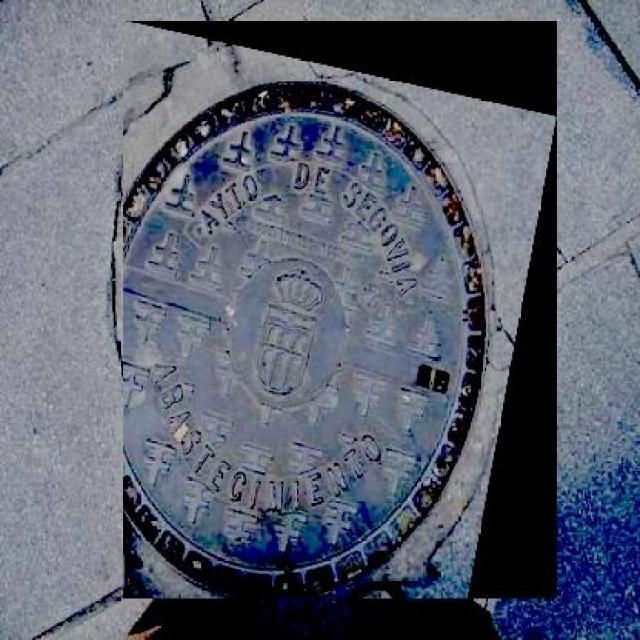Manhole: (123, 19, 557, 598)
